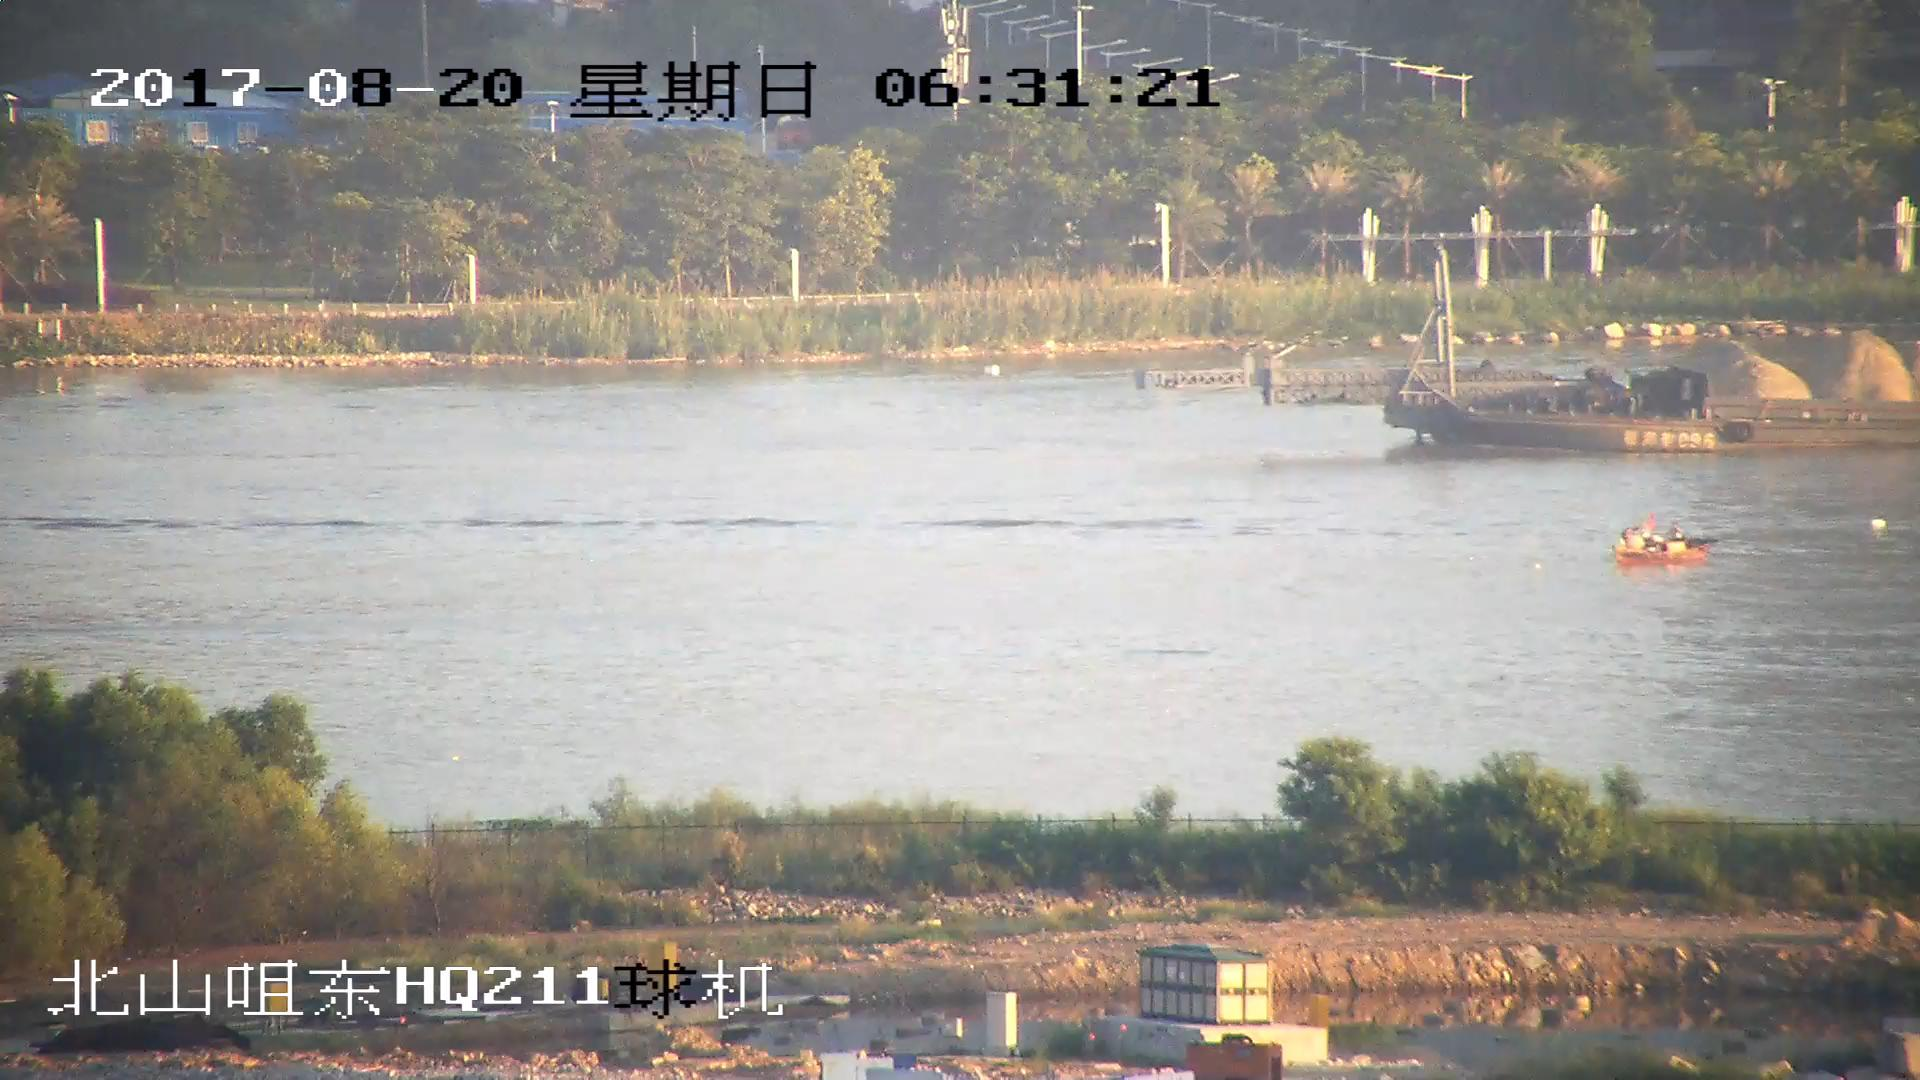Ship: (1145, 251, 1920, 459), (1610, 512, 1725, 570)
